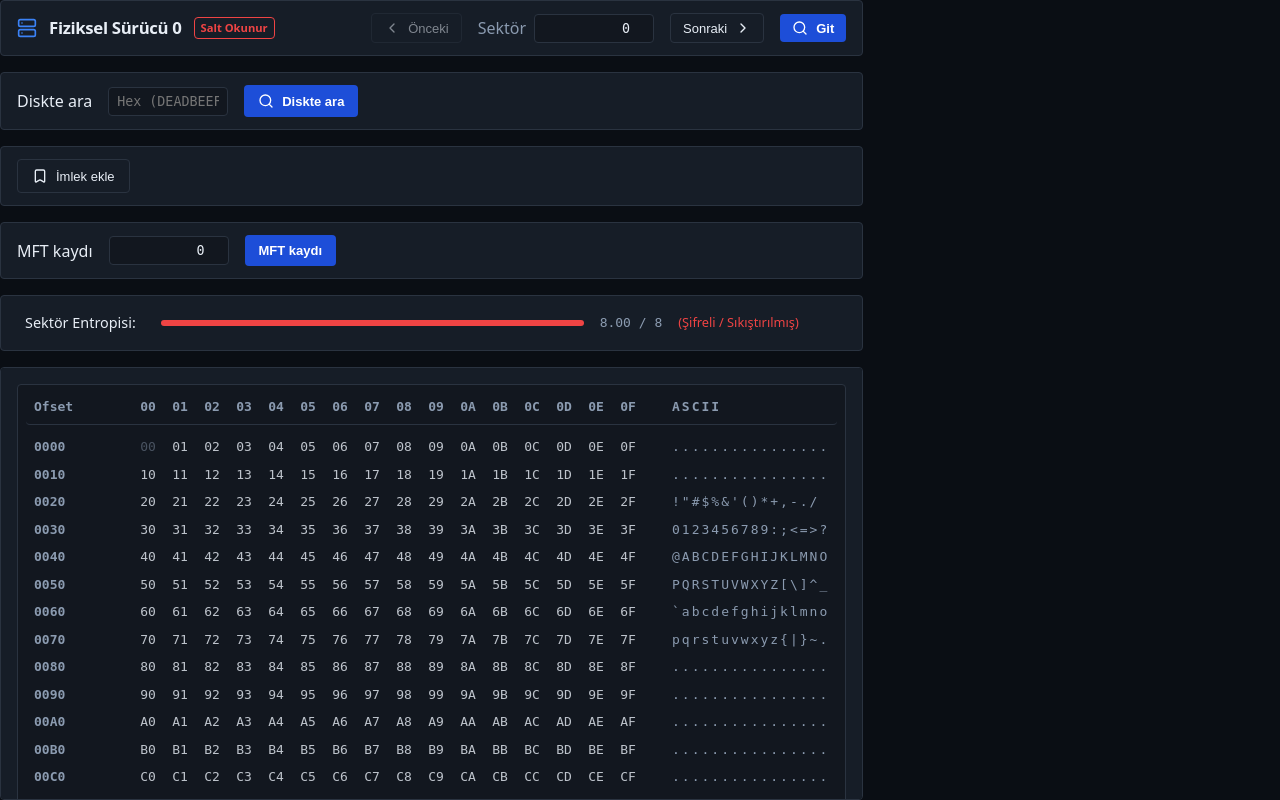
Scenario: HexEditor hex search › lists a hit and jumping it opens that sector
This screenshot has width=1280, height=800.
Step 1. Type "DEADBEEF" into the field with test id "hex-search-query" → x=168, y=101, box [108,86,228,116]
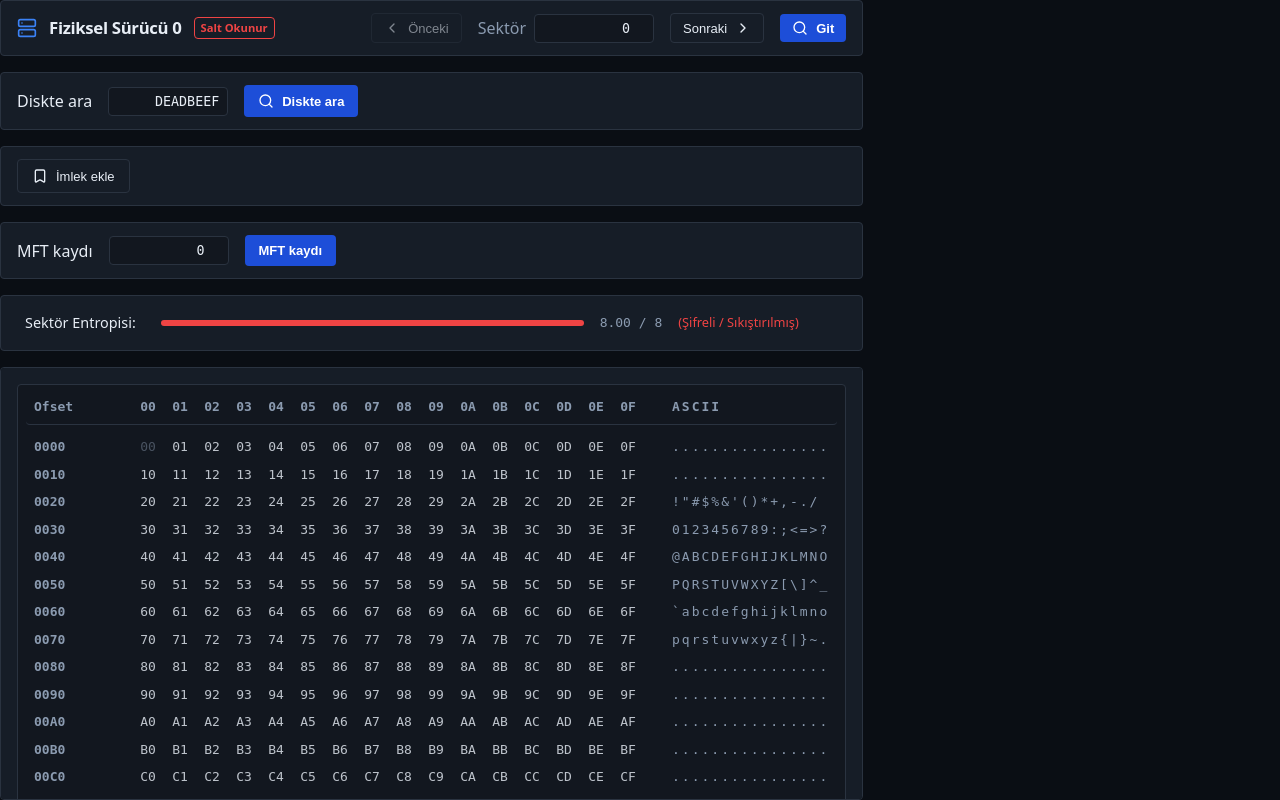
Step 2. Click the button with test id "hex-search-go" → x=301, y=101, box [244,85,358,117]
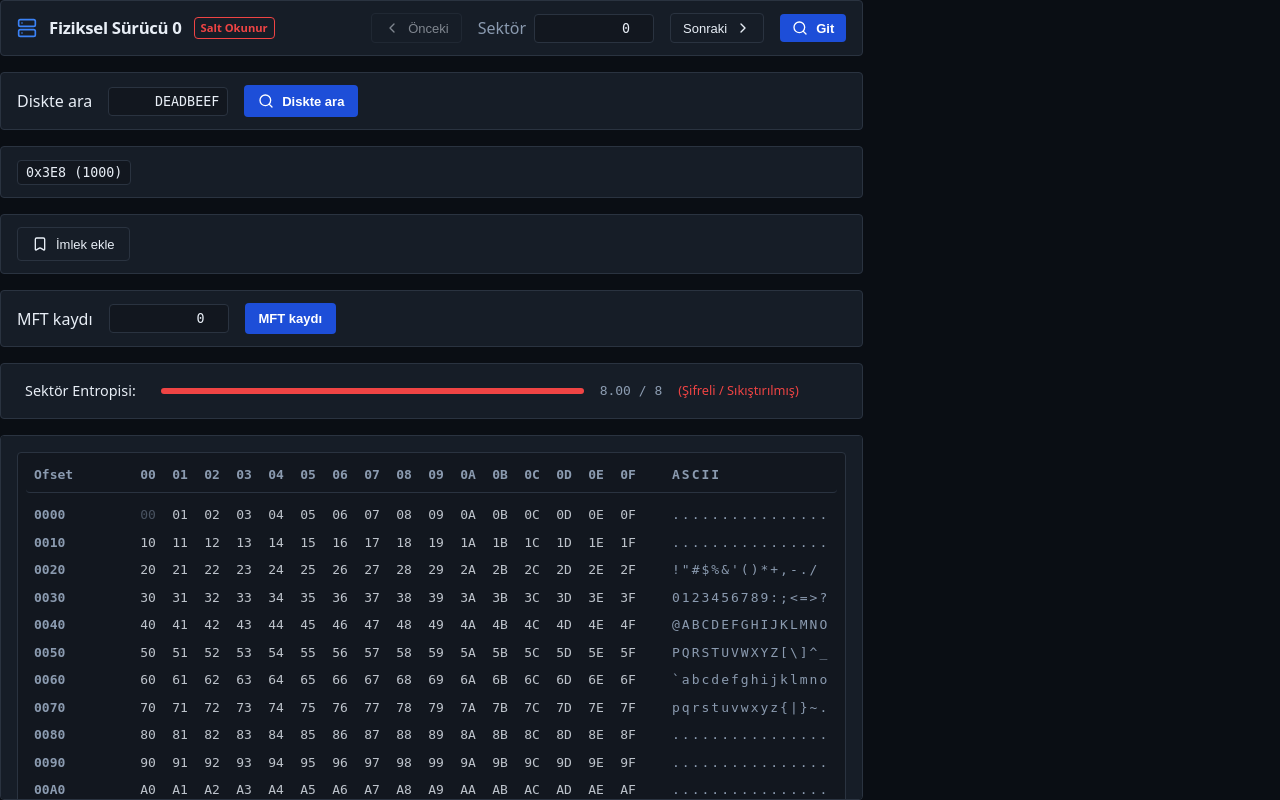
Result: the button with test id "hex-search-hit-0" shows "1000"
Step 3. Click the button with test id "hex-search-hit-0" → x=74, y=172, box [17,160,131,185]
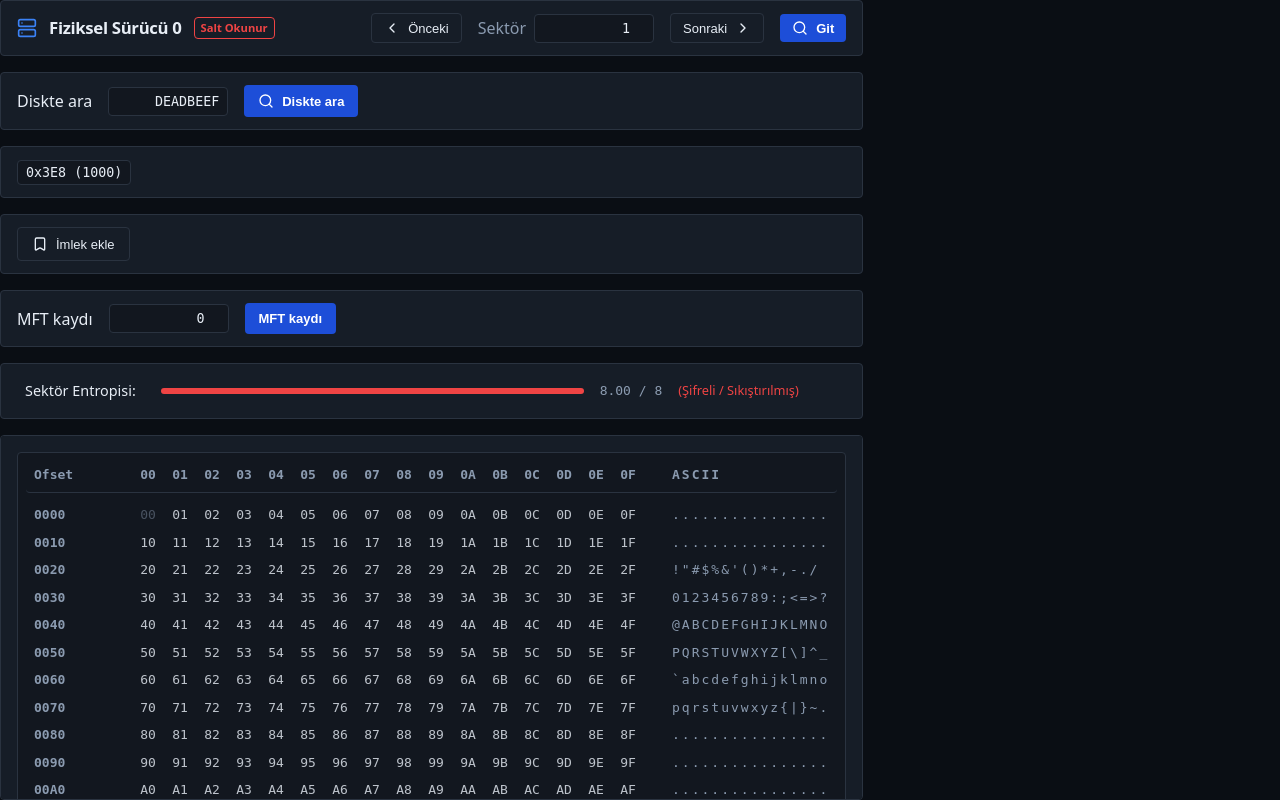
Result: the number field with id "hex-sector" holds "1" at [534,14,654,42]
